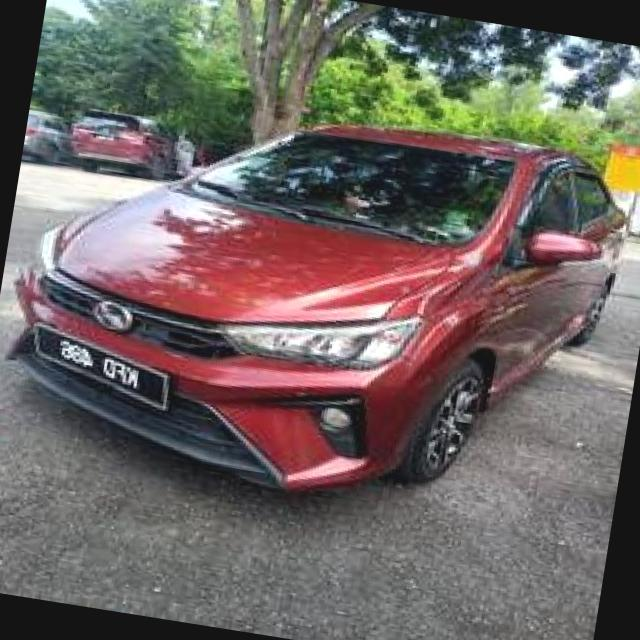PeroduaBezza: (0, 64, 639, 539)
